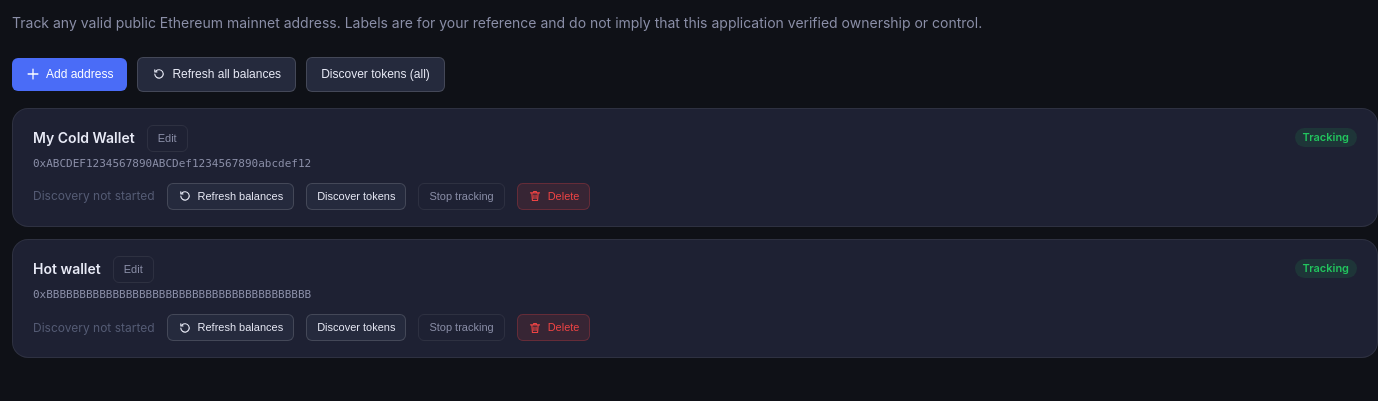
Test: WalletsPage › shows the queued/error message on its own card only, not a sibling card
Click the button "Refresh balances" below "My Cold Wallet".
click(230, 196)  # box [166,183,294,210]
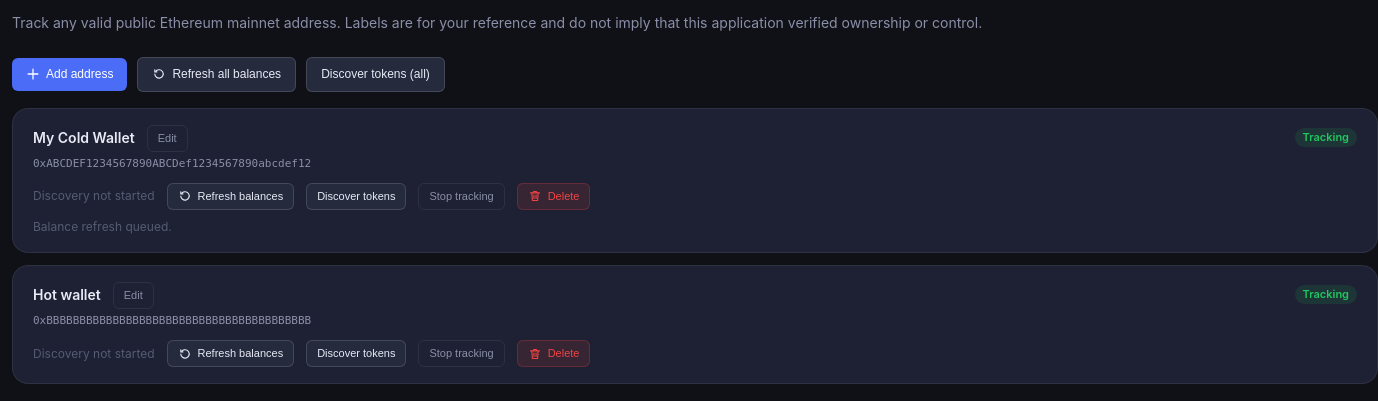
Expected: the element with class "wallet-card" does not show "Balance refresh queued."
Expected: the list item with class "wallet-card" shows "Balance refresh queued.", [33,219,172,234]
